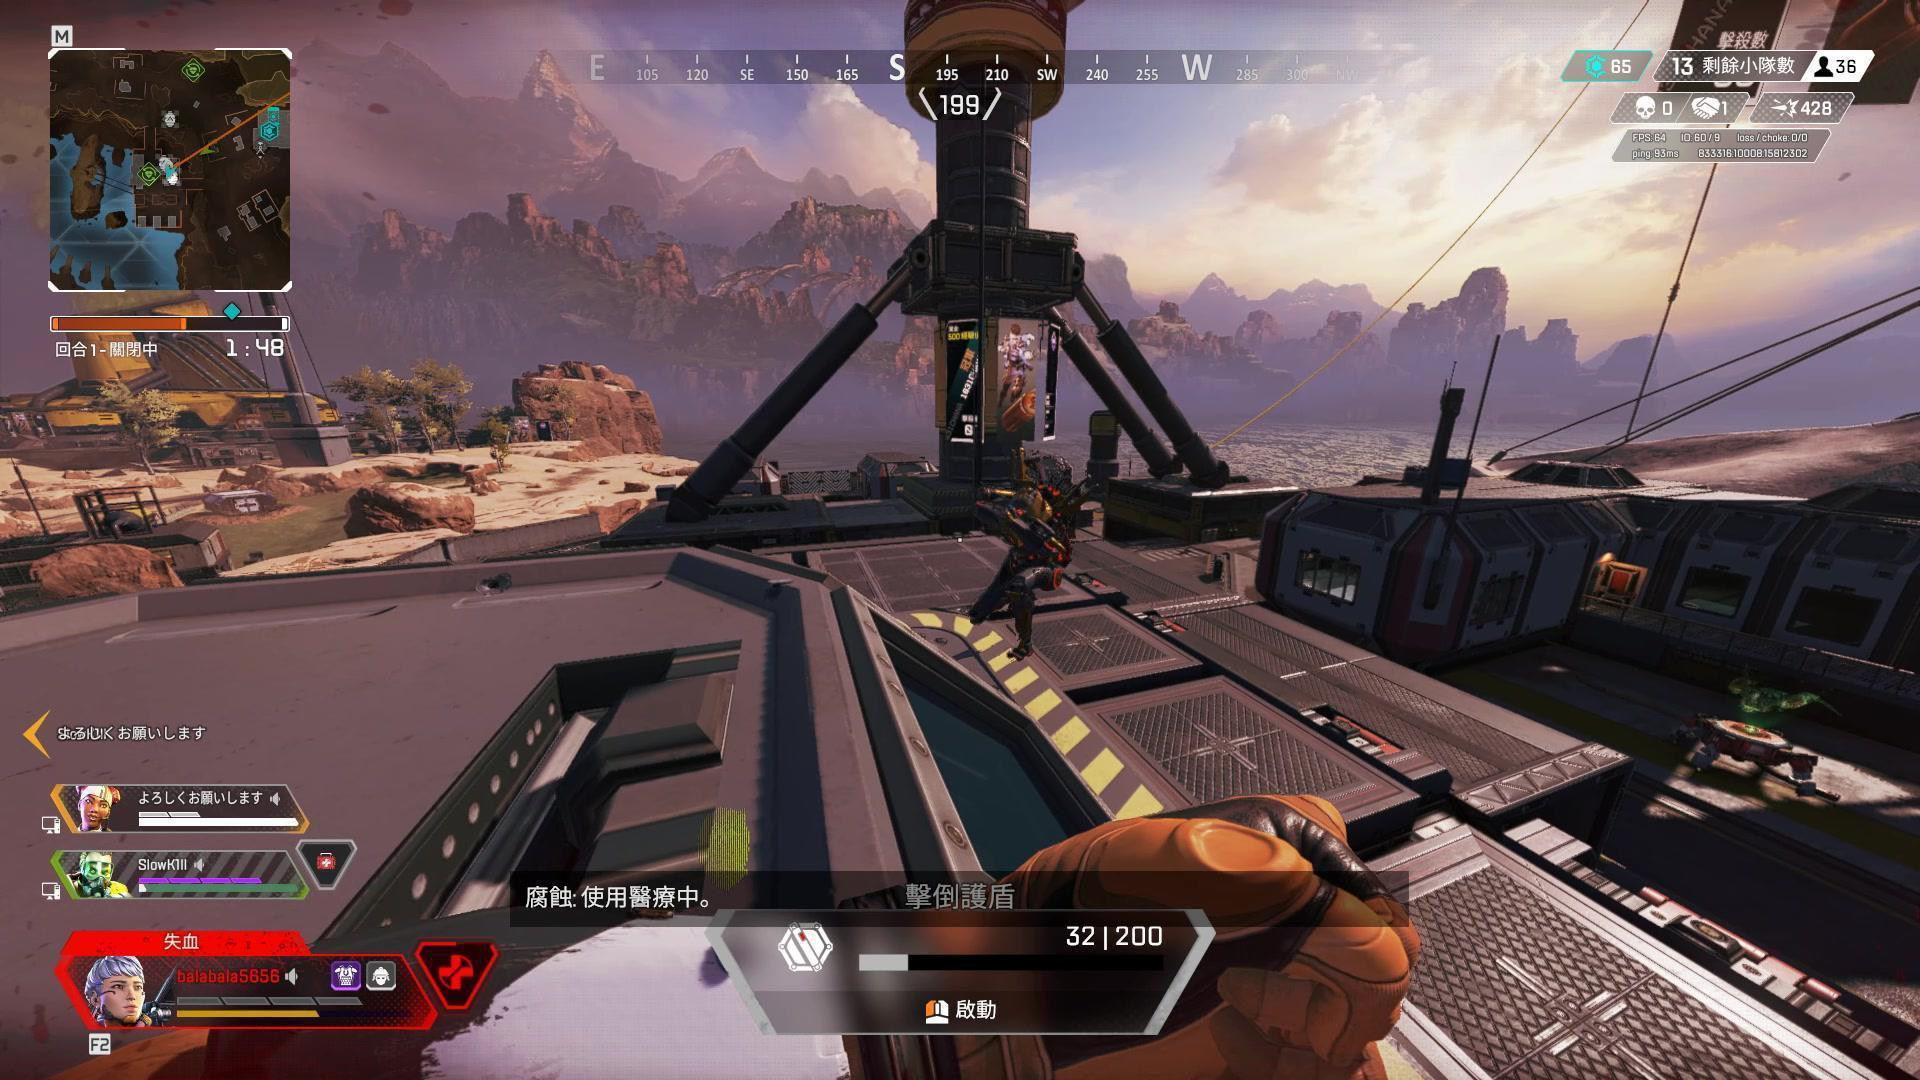avatar: (964, 484, 1078, 662)
